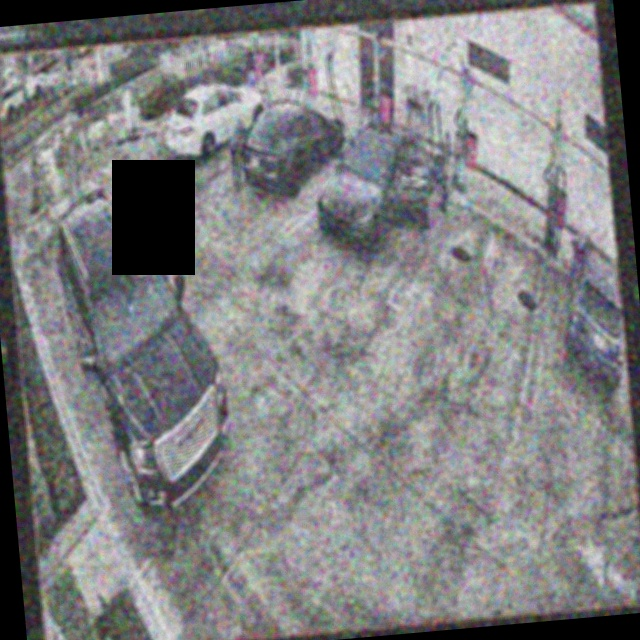Car: (51, 180, 236, 516), (309, 115, 447, 262), (240, 96, 348, 198), (162, 80, 270, 158)
